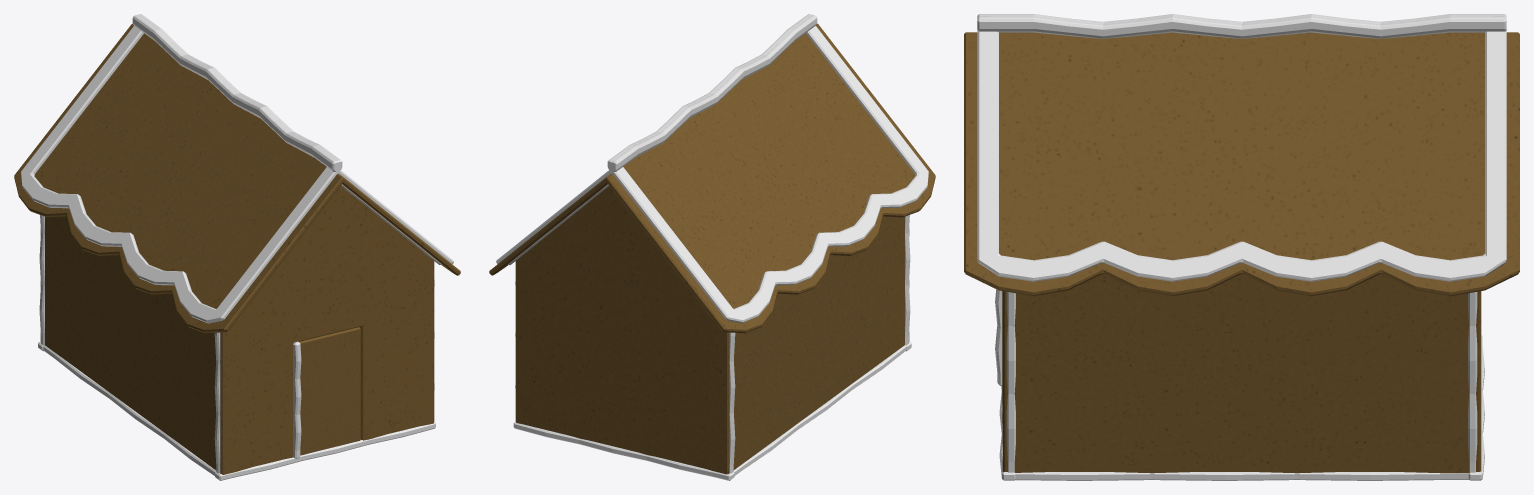
Rendered from GingerbreadHouse.fbx.
3 renders of one model, left to right at view 1: azimuth 30°, elevation 25°; view 2: azimuth 150°, elevation 25°; view 3: azimuth 270°, elevation 25°, orthographic. The views are drawn at different scales.
Visible parts, largest first — view 1: Cube, Cube.024; view 2: Cube; view 3: Cube, Cube.024.
Part boxes in pixels (bbox=[...]): Cube: bbox=[14, 14, 460, 480]; Cube.024: bbox=[293, 327, 360, 458]; Cube: bbox=[489, 14, 935, 480]; Cube: bbox=[964, 14, 1519, 480]; Cube.024: bbox=[995, 289, 1002, 423].
Size of the model in its own units: 10.18 by 11.32 by 14.4.
